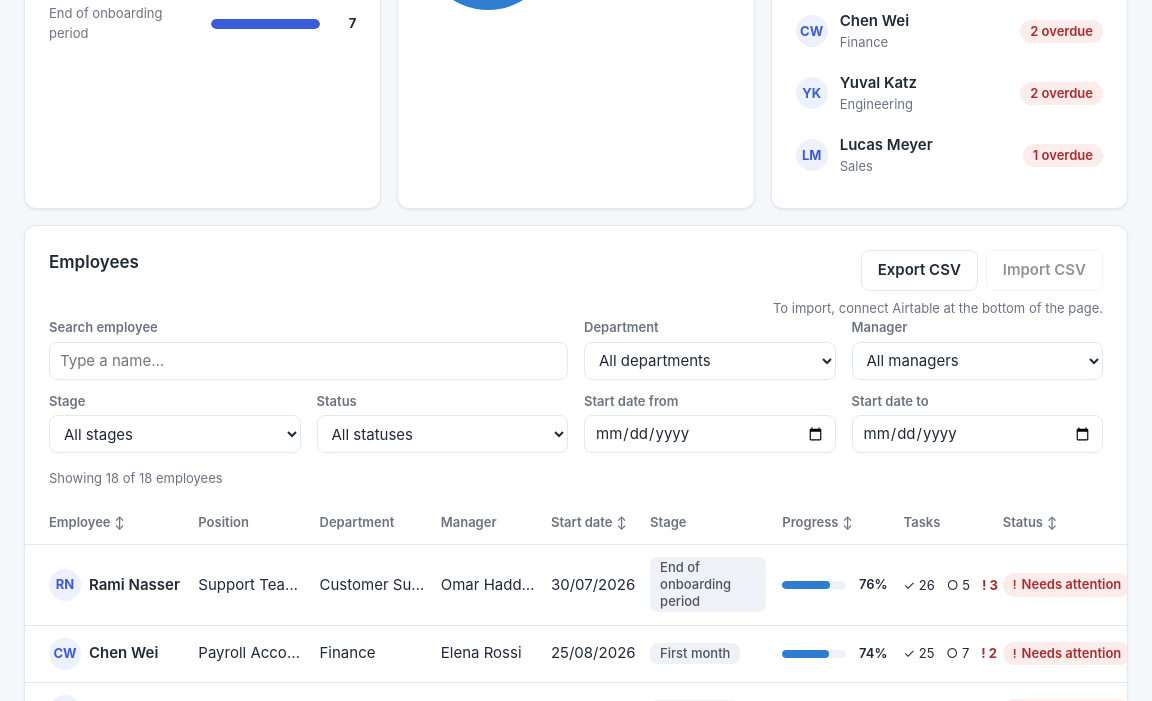
Dashboard › filters the table by search text
The image size is (1152, 701).
(page scrolled)
Type "liam" into the search field labelled "Search employee" at (308,361), box 49,342 -> 568,380
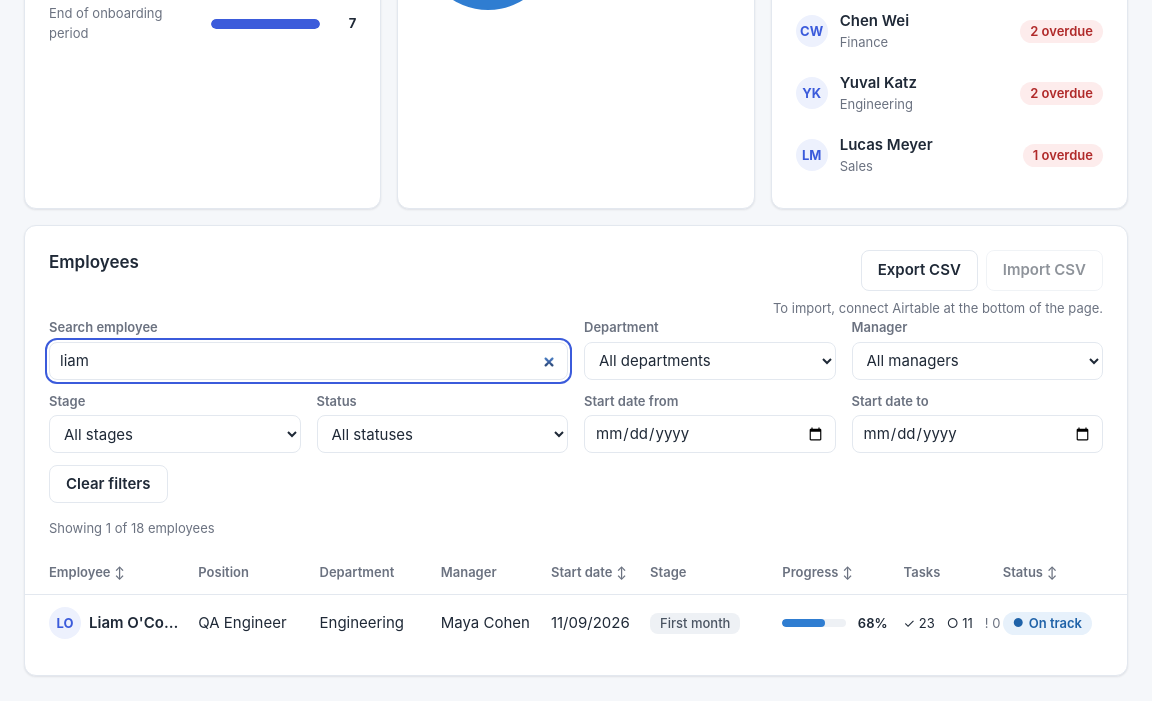
Check: the link "Liam O'Connor" is shown, box 89,612 -> 182,634
Check: the text "Showing 1 of 18 employees" is shown, box 49,520 -> 215,536
